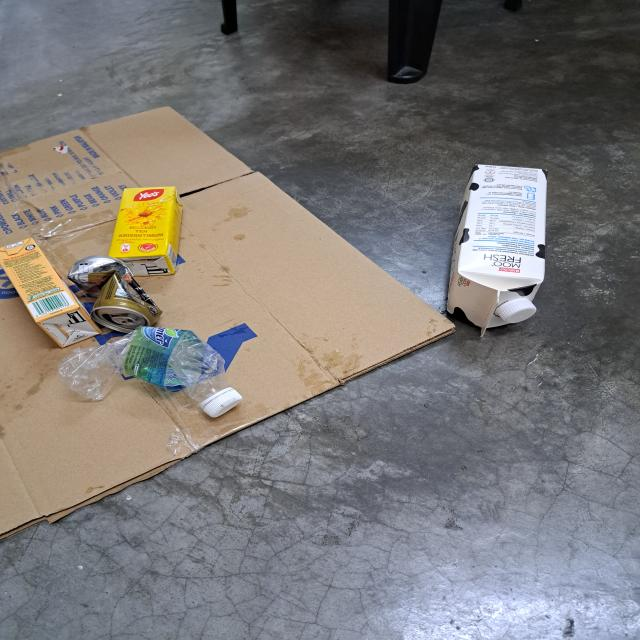can: (66, 256, 163, 332)
cardboard: (0, 107, 454, 541)
drink carton: (446, 163, 548, 337), (0, 239, 103, 349), (108, 187, 183, 276)
plastic bottle: (58, 327, 229, 402)
plastic bottle cap: (203, 390, 243, 418), (497, 301, 537, 323)
pop tab: (111, 317, 137, 325)
